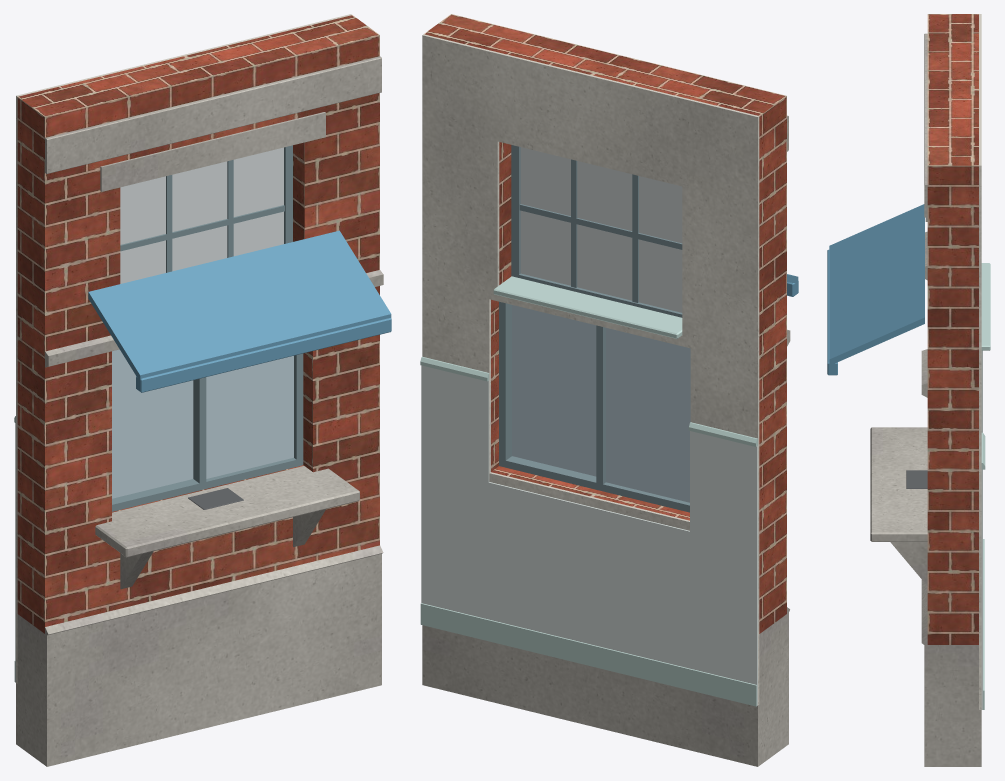
File: w_ticket.glb
3 views of the same model, side by side, from view 1: azimuth 30°, elevation 25°; view 2: azimuth 150°, elevation 25°; view 3: azimuth 270°, elevation 25° (orthographic). The views are drawn at different scales.
Parts seen in each view (by area): view 1: w_ticket_brick, w_ticket_concrete, w_ticket_canopy_b, w_ticket_glass, w_ticket_glass_f, w_ticket_frame, w_ticket_plaster, w_ticket_dark; view 2: w_ticket_plaster, w_ticket_tile_w, w_ticket_brick, w_ticket_glass, w_ticket_concrete, w_ticket_glass_f, w_ticket_tile_c, w_ticket_frame; view 3: w_ticket_brick, w_ticket_concrete, w_ticket_canopy_b, w_ticket_plaster, w_ticket_tile_c, w_ticket_tile_w, w_ticket_dark.
Part boxes in pixels (x1,y1,x2,y2): w_ticket_brick: (17,15,379,633); w_ticket_concrete: (16,56,383,766); w_ticket_canopy_b: (88,230,391,392); w_ticket_glass: (112,349,293,498); w_ticket_glass_f: (120,147,283,283); w_ticket_frame: (112,145,303,511); w_ticket_plaster: (16,14,351,683); w_ticket_dark: (188,488,243,509); w_ticket_plaster: (422,34,759,704); w_ticket_tile_w: (421,365,757,705); w_ticket_brick: (424,14,786,633); w_ticket_glass: (512,305,690,502); w_ticket_concrete: (422,115,790,766); w_ticket_glass_f: (520,147,682,312); w_ticket_tile_c: (420,276,757,706); w_ticket_frame: (499,145,689,512); w_ticket_brick: (927,14,978,644); w_ticket_concrete: (870,33,981,766); w_ticket_canopy_b: (827,204,924,375); w_ticket_plaster: (979,14,981,709); w_ticket_tile_c: (981,263,990,709); w_ticket_tile_w: (981,350,982,709); w_ticket_dark: (906,470,927,488).
Bounding box in the file's own units: 2 × 3.7 × 0.91.
10 materials, 3 textured.
